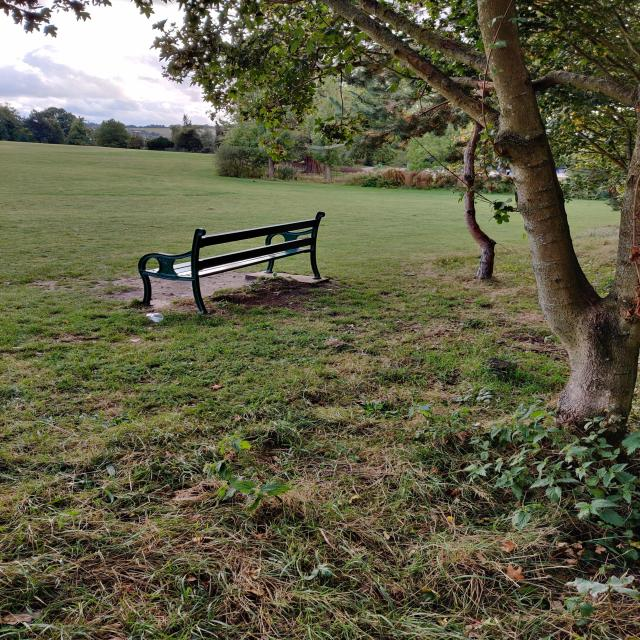litter: (145, 312, 164, 322)
